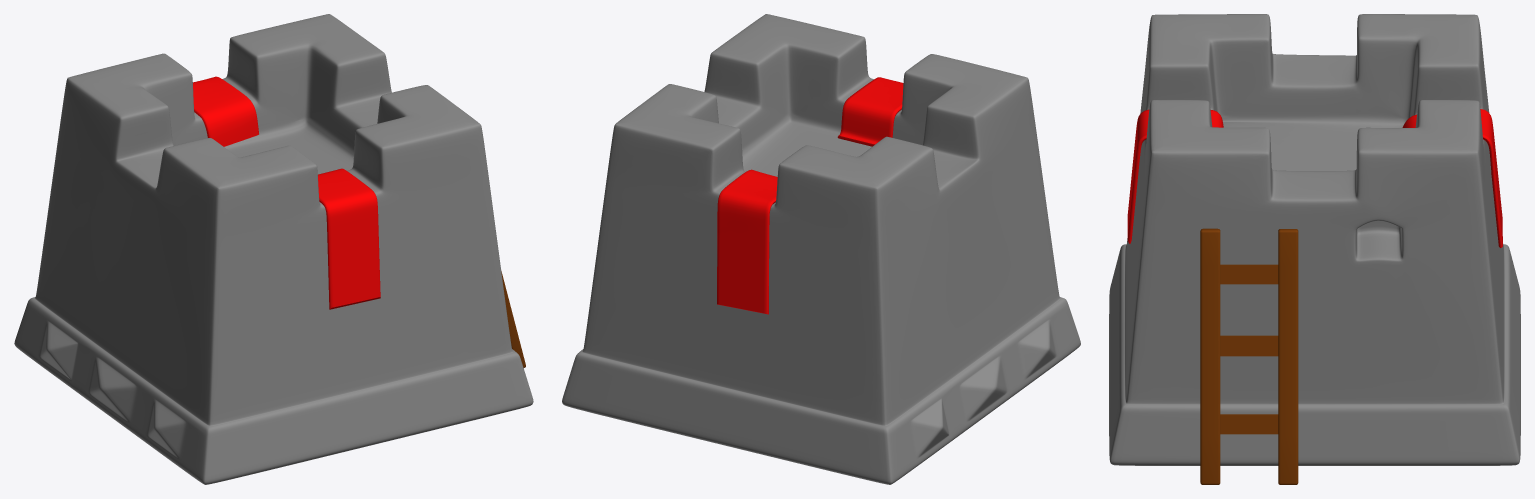
The model's file is TowerCR.fbx.
3 renders of one model, left to right at view 1: azimuth 30°, elevation 25°; view 2: azimuth 150°, elevation 25°; view 3: azimuth 270°, elevation 25°, orthographic. The views are drawn at different scales.
Parts seen in each view (by area): view 1: Tower, Plane001; view 2: Tower, Plane001; view 3: Tower, Ladder, Plane001.
Boxes of the visible parts, x1=… form: Tower: x1=14, y1=14, x2=533, y2=484; Plane001: x1=193, y1=76, x2=380, y2=309; Tower: x1=562, y1=14, x2=1080, y2=484; Plane001: x1=717, y1=77, x2=903, y2=314; Tower: x1=1109, y1=14, x2=1520, y2=465; Ladder: x1=1200, y1=228, x2=1298, y2=484; Plane001: x1=1127, y1=109, x2=1502, y2=247.
Size of the model in its own units: 107 by 76.6 by 95.
